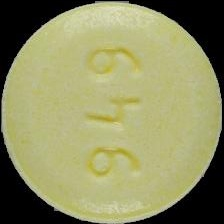0555-9010: (0, 0, 224, 224)
